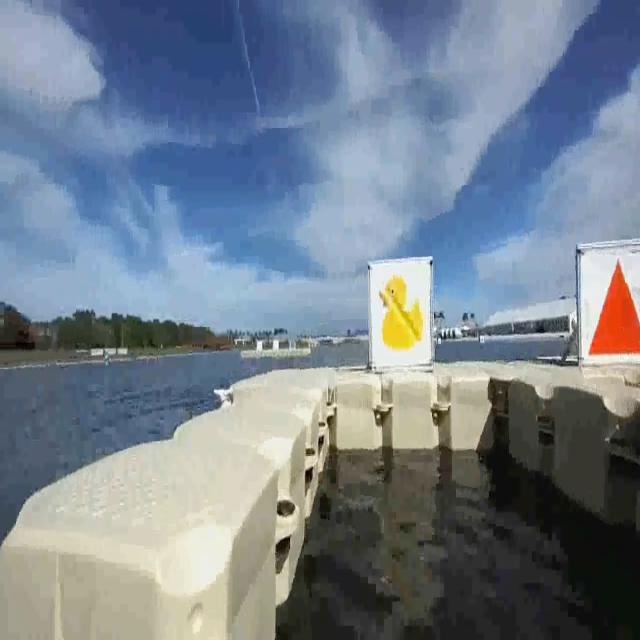red-dot: (579, 245, 640, 367)
yellow-duck: (371, 256, 432, 368)
